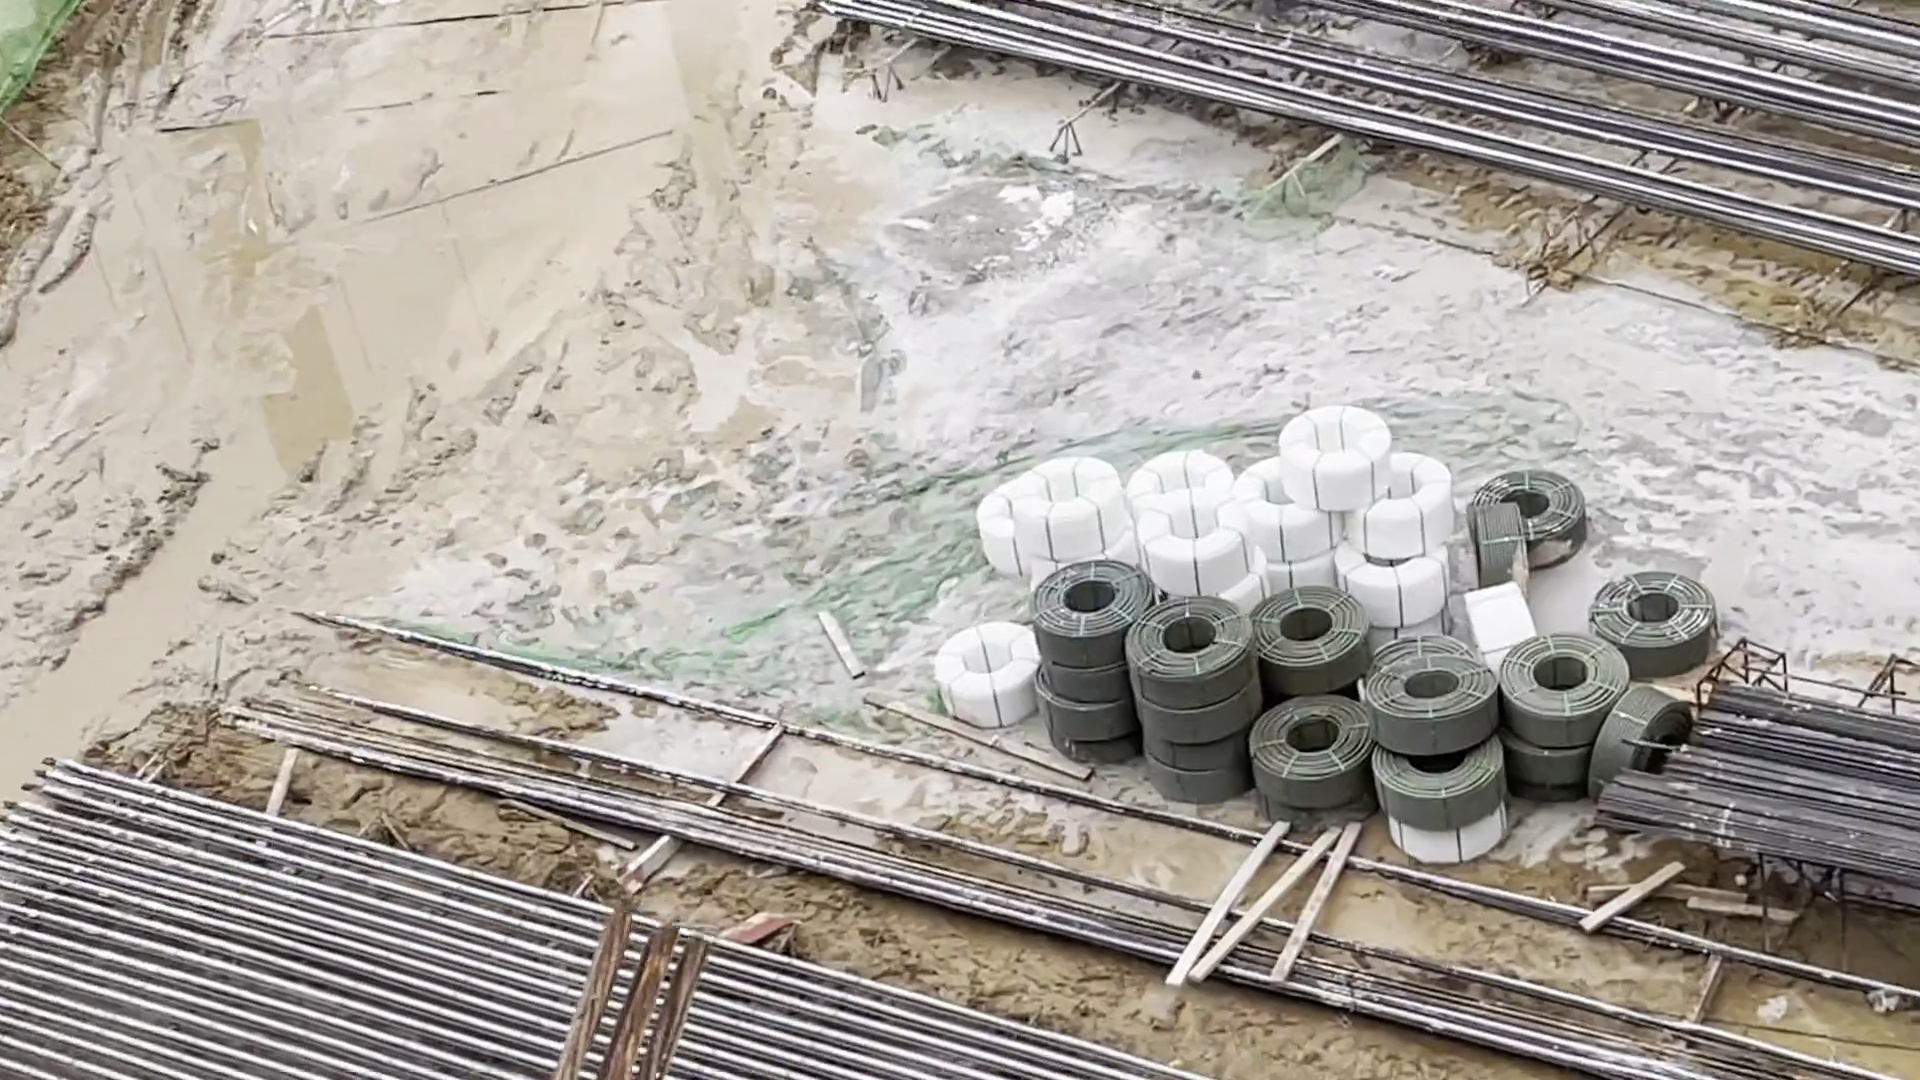rebar: (1073, 1, 1920, 249), (21, 824, 833, 1080), (1597, 698, 1920, 855)
